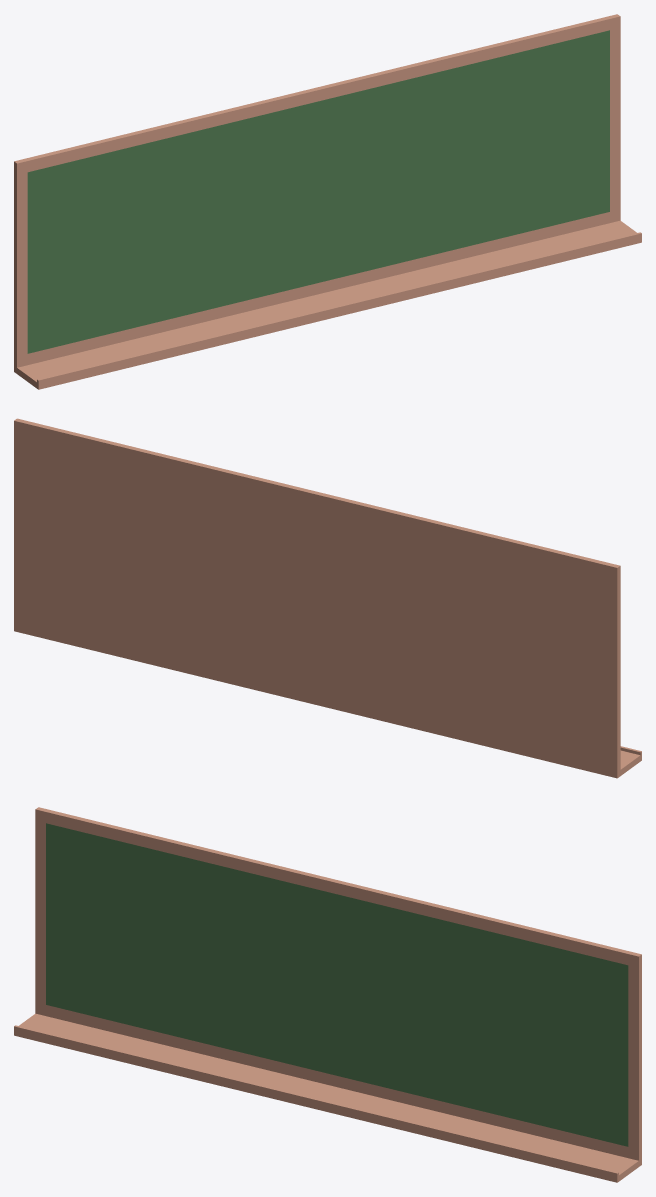
The model's file is Papan.fbx.
The picture shows the model from 3 angles, top to bottom: view 1: azimuth 30°, elevation 25°; view 2: azimuth 150°, elevation 25°; view 3: azimuth 330°, elevation 25°; orthographic projection.
Visible parts, largest first — view 1: Papan; view 2: Papan; view 3: Papan.
Part boxes in pixels (<box>): Papan: <box>14,14,641,389</box>; Papan: <box>14,418,641,778</box>; Papan: <box>14,807,641,1182</box>.
Bounding box in the file's own units: 1886 × 629 × 133.
